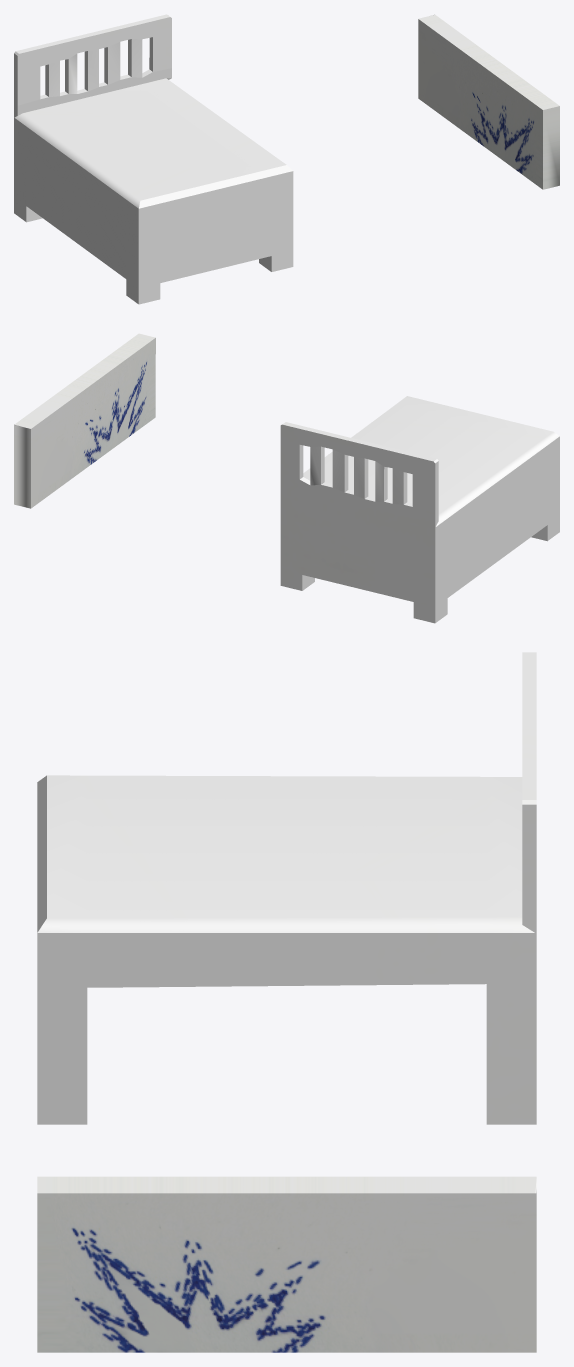
Rendered from Bed3p.fbx.
3 views of the same model, one above another, from view 1: azimuth 30°, elevation 25°; view 2: azimuth 150°, elevation 25°; view 3: azimuth 270°, elevation 25° (orthographic). The views are drawn at different scales.
Parts seen in each view (by area): view 1: bedBody, bedPart; view 2: bedBody, bedPart; view 3: bedBody, bedPart.
Part boxes in pixels (box(x1,y1,x2,y2)): bedBody: box(14, 14, 293, 304); bedPart: box(418, 14, 559, 189); bedBody: box(280, 396, 559, 623); bedPart: box(14, 333, 155, 508); bedBody: box(37, 652, 536, 1124); bedPart: box(37, 1176, 536, 1352).
Size of the model in its own units: 1.36 by 0.5 by 0.7.
